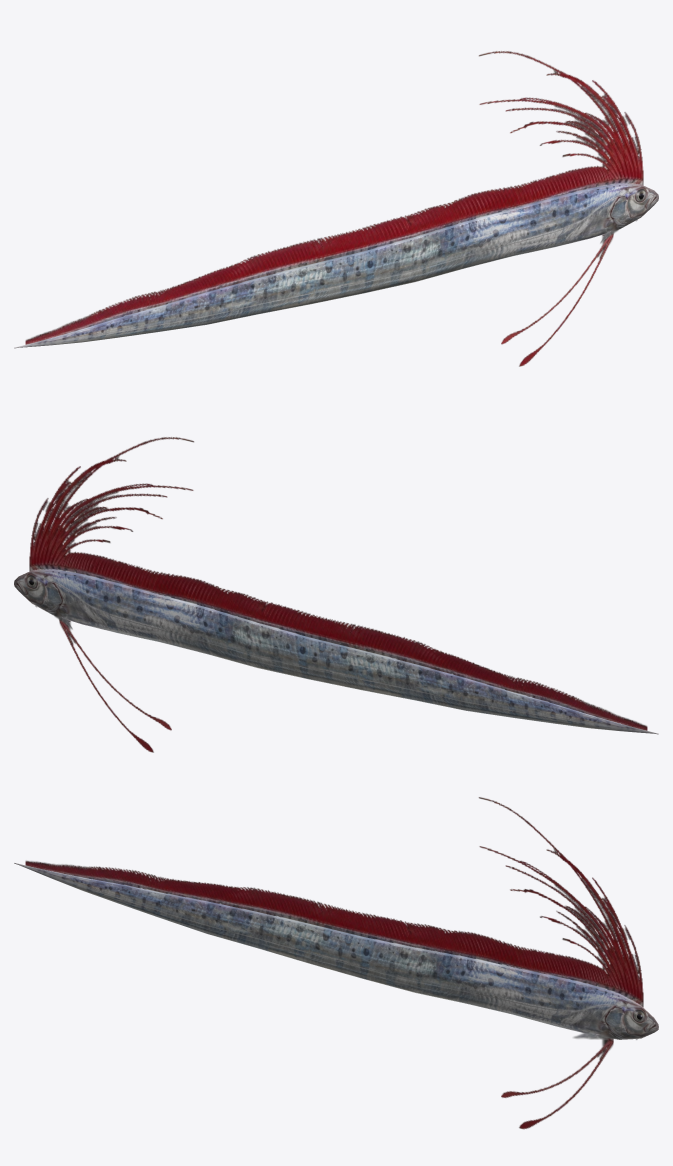
Rendered from ryuuguu_lo.glb.
3 views of the same model, one above another, from view 1: azimuth 30°, elevation 25°; view 2: azimuth 150°, elevation 25°; view 3: azimuth 330°, elevation 25° (orthographic).
Visible parts, largest first — view 1: ryuuguu; view 2: ryuuguu; view 3: ryuuguu.
Part boxes in pixels (x1,y1,x2,y2): ryuuguu: [14, 51, 658, 366]; ryuuguu: [14, 437, 658, 752]; ryuuguu: [14, 797, 658, 1129].
Size of the model in its own units: 3.45 by 1.65 by 0.2678.
Materials: 1 (1 with a texture image).
